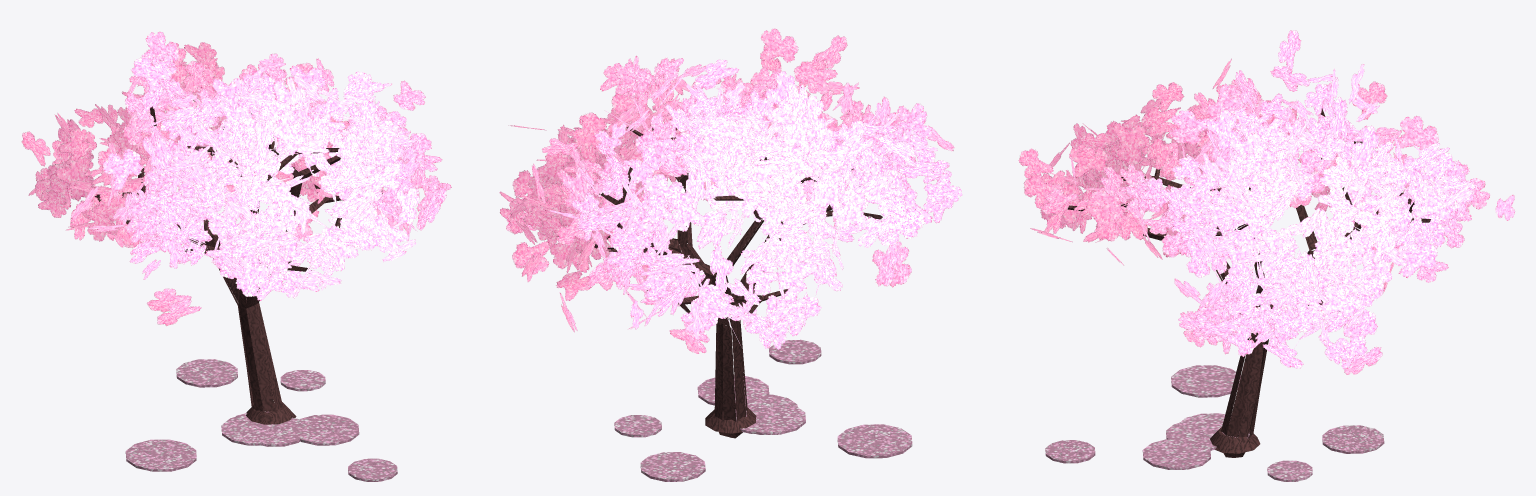
The model's file is citadel_cherry_tree.glb.
The picture shows the model from 3 angles, left to right: view 1: azimuth 30°, elevation 25°; view 2: azimuth 150°, elevation 25°; view 3: azimuth 270°, elevation 25°; orthographic projection. The views are drawn at different scales.
Parts seen in each view (by area): view 1: cherry_Cherry_Blossom_Card, cherry_Cherry_Blossom, cherry_Bark; view 2: cherry_Cherry_Blossom_Card, cherry_Cherry_Blossom, cherry_Bark; view 3: cherry_Cherry_Blossom_Card, cherry_Cherry_Blossom, cherry_Bark.
Part boxes in pixels (<box>): cherry_Cherry_Blossom_Card: <box>21,31,451,325</box>; cherry_Cherry_Blossom: <box>125,359,397,481</box>; cherry_Bark: <box>95,100,382,424</box>; cherry_Cherry_Blossom_Card: <box>499,28,962,353</box>; cherry_Cherry_Blossom: <box>614,339,912,481</box>; cherry_Bark: <box>557,125,882,438</box>; cherry_Cherry_Blossom_Card: <box>1018,30,1514,374</box>; cherry_Cherry_Blossom: <box>1045,365,1384,481</box>; cherry_Bark: <box>1067,108,1430,457</box>.
Size of the model in its own units: 9.03 by 8.46 by 10.03.
Materials: 3 (3 with a texture image).
